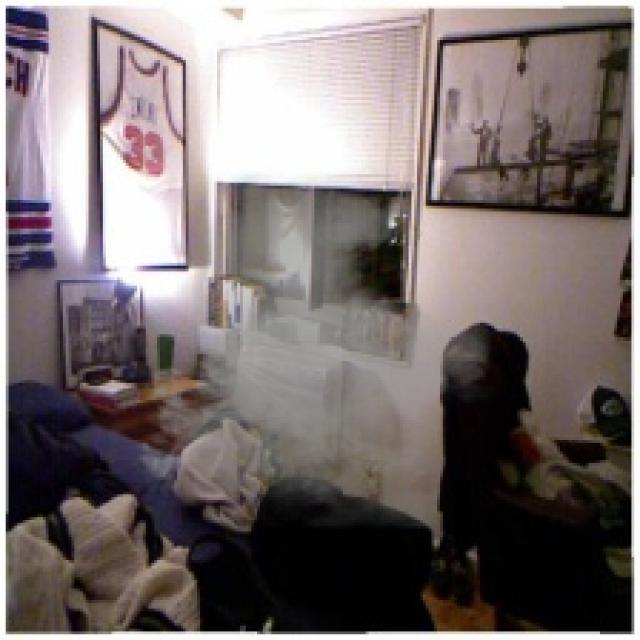smoke: (126, 172, 506, 528)
